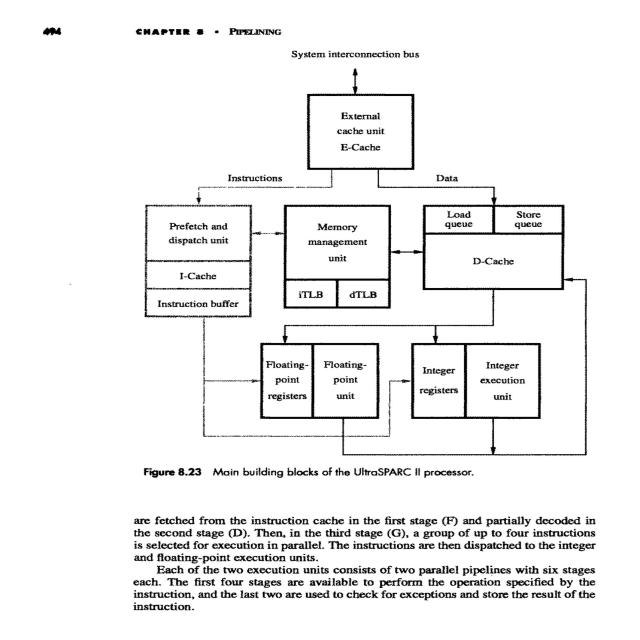diagram: (82, 44, 640, 487)
